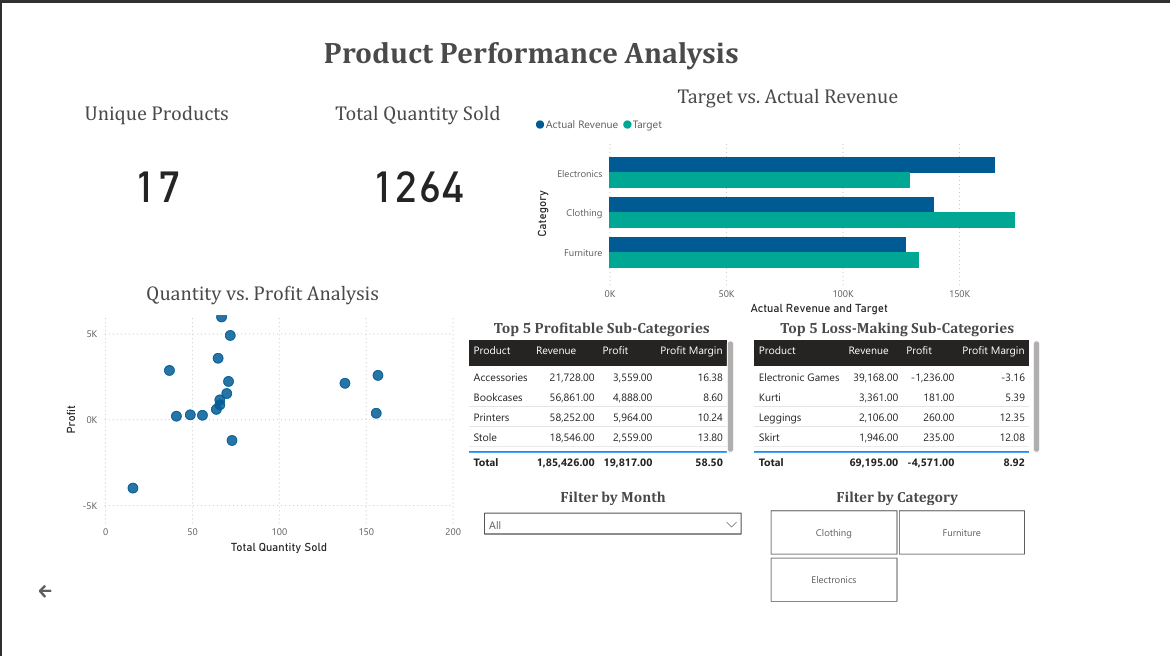

Layout of this report page (visuals, bound fields, positions):
{"tool":"powerbi","page":{"name":"Product Performance Analysis","canvas":[1280,720],"ordinal":2},"visuals":[{"type":"textbox","box":[10,0,1231.4,87.1],"z":0},{"type":"card","title":"Unique Products","fields":{"Values":["public product_performance.Unique Products"]},"box":[38.6,87.1,240,171.4],"z":1000},{"type":"card","title":"Total Quantity Sold","fields":{"Values":["Sum(public product_performance.total_orders)"]},"box":[364.3,87.1,240,171.4],"z":2000},{"type":"scatterChart","title":"Quantity vs. Profit Analysis ","fields":{"Category":["public product_performance.product"],"X":["Sum(public product_performance.total_orders)"],"Y":["Sum(public product_performance.total_profit)"]},"box":[38.6,312.9,504.3,344.3],"z":3000},{"type":"clusteredBarChart","title":"Target vs. Actual Revenue ","fields":{"Category":["public target_analysis.category"],"Y":["Sum(public target_analysis.actual_revenue)","Sum(public target_analysis.target)"]},"box":[625.7,67.1,640,292.9],"z":4000},{"type":"tableEx","title":"Top 5 Profitable Sub-Categories","fields":{"Values":["public product_performance.product","Sum(public product_performance.total_revenue)","Sum(public product_performance.total_profit)","Sum(public product_performance.profit_margin_percentage)"]},"box":[542.9,360,341.4,195.7],"z":5000},{"type":"tableEx","title":" Top 5 Loss-Making Sub-Categories","fields":{"Values":["public product_performance.product","Sum(public product_performance.total_revenue)","Sum(public product_performance.total_profit)","Sum(public product_performance.profit_margin_percentage)"]},"box":[898.6,360,367.1,195.7],"z":5001},{"type":"slicer","title":"Filter by Month","fields":{"Values":["public target_analysis.month"]},"box":[557.1,570,341.4,87.1],"z":5002},{"type":"slicer","title":"Filter by Category","fields":{"Values":["public category_performance.category"]},"box":[899,570,367,150],"z":5003},{"type":"actionButton","box":[0,680,100,40],"z":5004}]}

Visuals, with their boxes in screenshot pixels (x1, y1, x2, y2), scaled from the page's 1280x720 canvas onto the 1170x656 screenshot:
textbox: <box>9,0,1135,79</box>
"Unique Products" card: <box>35,79,255,236</box>
"Total Quantity Sold" card: <box>333,79,552,236</box>
"Quantity vs. Profit Analysis " scatterChart: <box>35,285,496,599</box>
"Target vs. Actual Revenue " clusteredBarChart: <box>572,61,1157,328</box>
"Top 5 Profitable Sub-Categories" tableEx: <box>496,328,808,506</box>
" Top 5 Loss-Making Sub-Categories" tableEx: <box>821,328,1157,506</box>
"Filter by Month" slicer: <box>509,519,821,599</box>
"Filter by Category" slicer: <box>822,519,1157,655</box>
actionButton: <box>0,620,91,655</box>
